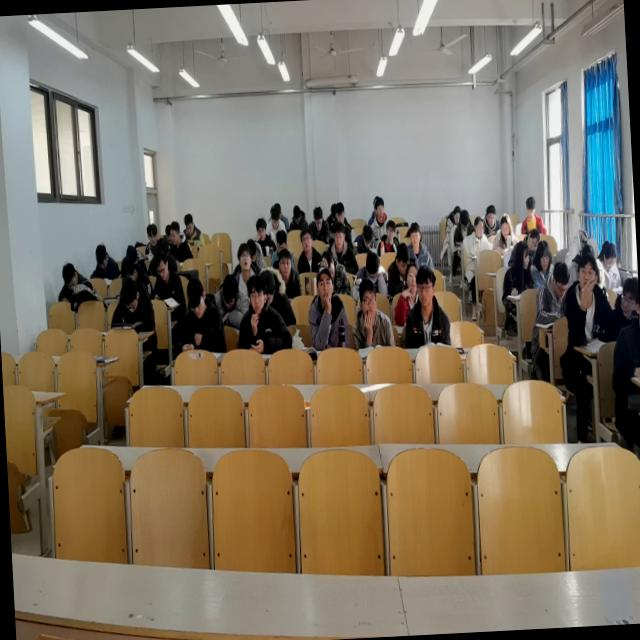bow: (108, 275, 156, 329), (212, 272, 252, 326), (350, 248, 389, 298), (55, 258, 93, 304), (352, 222, 376, 252), (444, 205, 462, 233)
down: (120, 276, 142, 316), (185, 277, 205, 320), (551, 260, 570, 298), (61, 259, 80, 294), (222, 272, 240, 308), (393, 240, 409, 272), (536, 240, 552, 272), (95, 240, 110, 272), (320, 248, 335, 277), (332, 220, 346, 250), (366, 250, 380, 280), (168, 218, 182, 247), (602, 239, 616, 268), (154, 254, 169, 281), (184, 210, 196, 237), (362, 224, 374, 251), (500, 212, 512, 238), (270, 202, 281, 230), (526, 228, 540, 250), (276, 226, 288, 250), (486, 204, 498, 228), (334, 201, 346, 224), (314, 207, 324, 230), (460, 209, 470, 232), (526, 196, 536, 219), (292, 204, 302, 224), (452, 205, 462, 225)
lookup: (415, 265, 438, 307), (576, 255, 599, 295), (246, 275, 268, 315), (358, 277, 377, 317), (316, 264, 334, 302), (404, 262, 420, 294), (236, 242, 252, 270), (146, 220, 161, 249), (278, 247, 292, 276), (300, 227, 314, 254), (409, 220, 421, 248), (255, 218, 268, 241), (385, 220, 396, 240), (375, 198, 385, 218)
sit: (562, 251, 614, 348), (233, 271, 292, 351), (402, 262, 452, 348), (176, 272, 226, 354), (306, 263, 350, 351), (349, 275, 396, 350), (532, 262, 572, 327), (498, 240, 534, 304), (392, 262, 423, 326), (328, 218, 359, 276), (387, 241, 417, 298), (273, 245, 302, 298), (153, 252, 185, 300), (596, 237, 623, 290), (406, 221, 433, 270), (89, 240, 120, 280), (166, 218, 194, 262), (296, 229, 322, 275), (253, 214, 278, 259), (491, 212, 517, 254), (520, 194, 546, 234), (465, 214, 489, 256), (306, 204, 332, 242), (452, 207, 476, 247), (375, 217, 400, 254), (234, 263, 262, 296), (143, 220, 167, 257), (369, 196, 389, 236), (182, 208, 204, 244), (266, 214, 288, 244), (288, 202, 308, 231), (252, 234, 276, 258)
